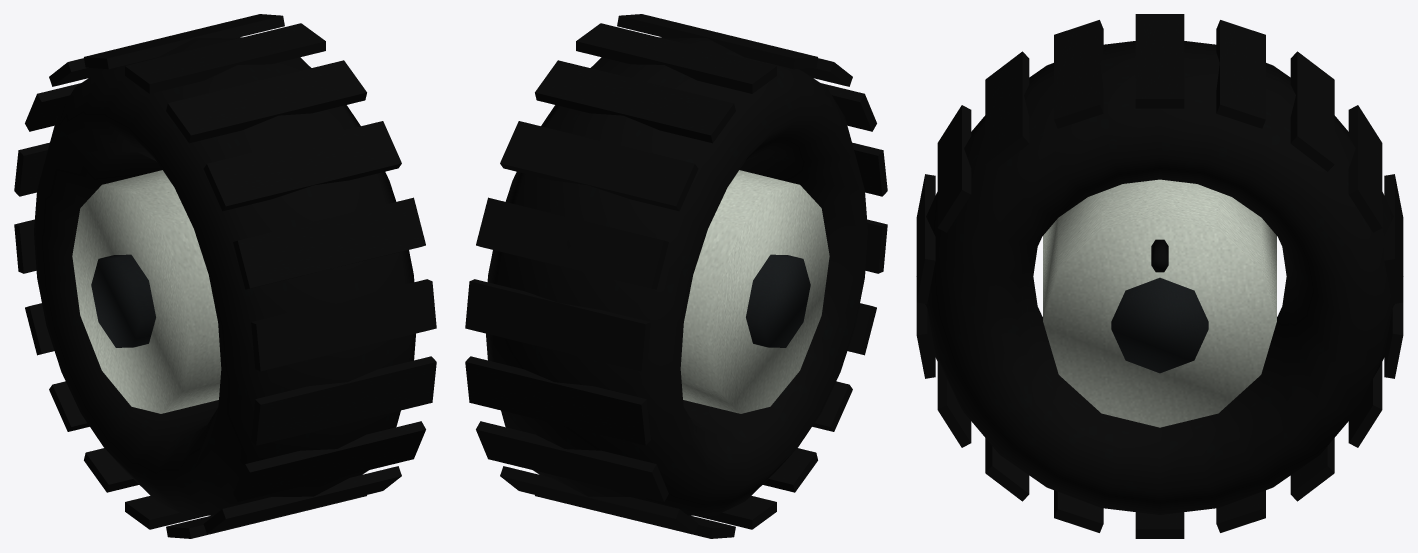
File: SpareTire.gltf
3 views of the same model, side by side, from view 1: azimuth 30°, elevation 25°; view 2: azimuth 150°, elevation 25°; view 3: azimuth 270°, elevation 25° (orthographic).
Parts seen in each view (by area): view 1: SpareTire__Wheel; view 2: SpareTire__Wheel; view 3: SpareTire__Wheel.
Part boxes in pixels (<box>): SpareTire__Wheel: <box>14,14,436,538</box>; SpareTire__Wheel: <box>465,14,887,538</box>; SpareTire__Wheel: <box>916,14,1403,538</box>.
Bounding box in the file's own units: 0.194 × 0.336 × 0.336.
Materials: 1 (1 with a texture image).
